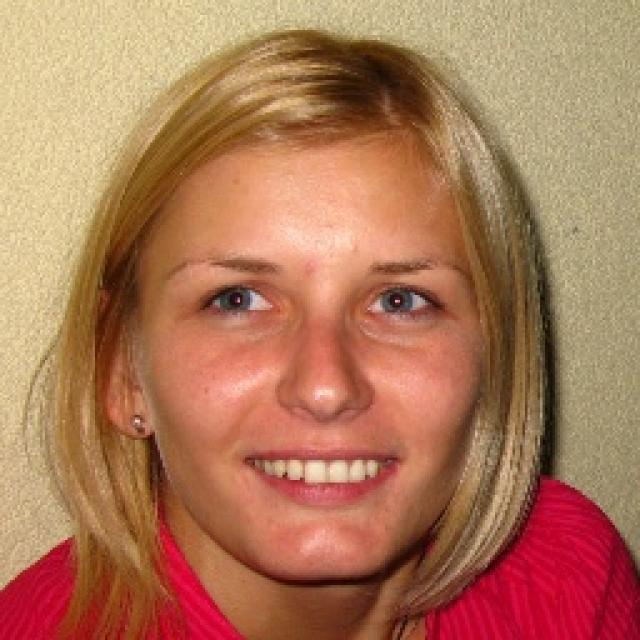earlobe: (88, 288, 158, 440)
